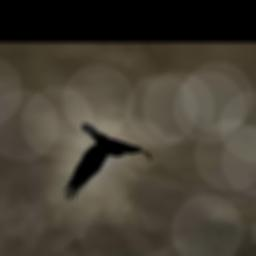Crow: (65, 124, 152, 201)
